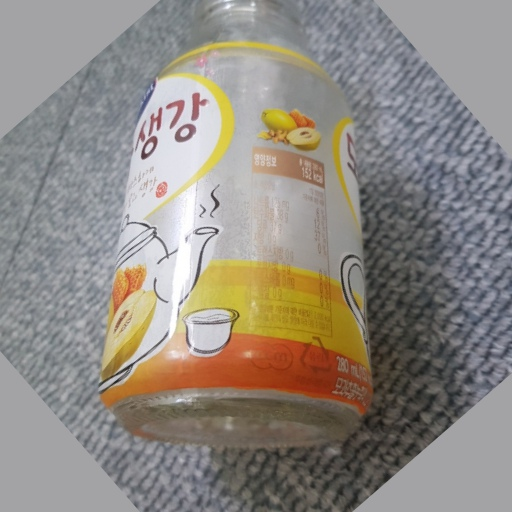Glass_4: (104, 5, 378, 452)
